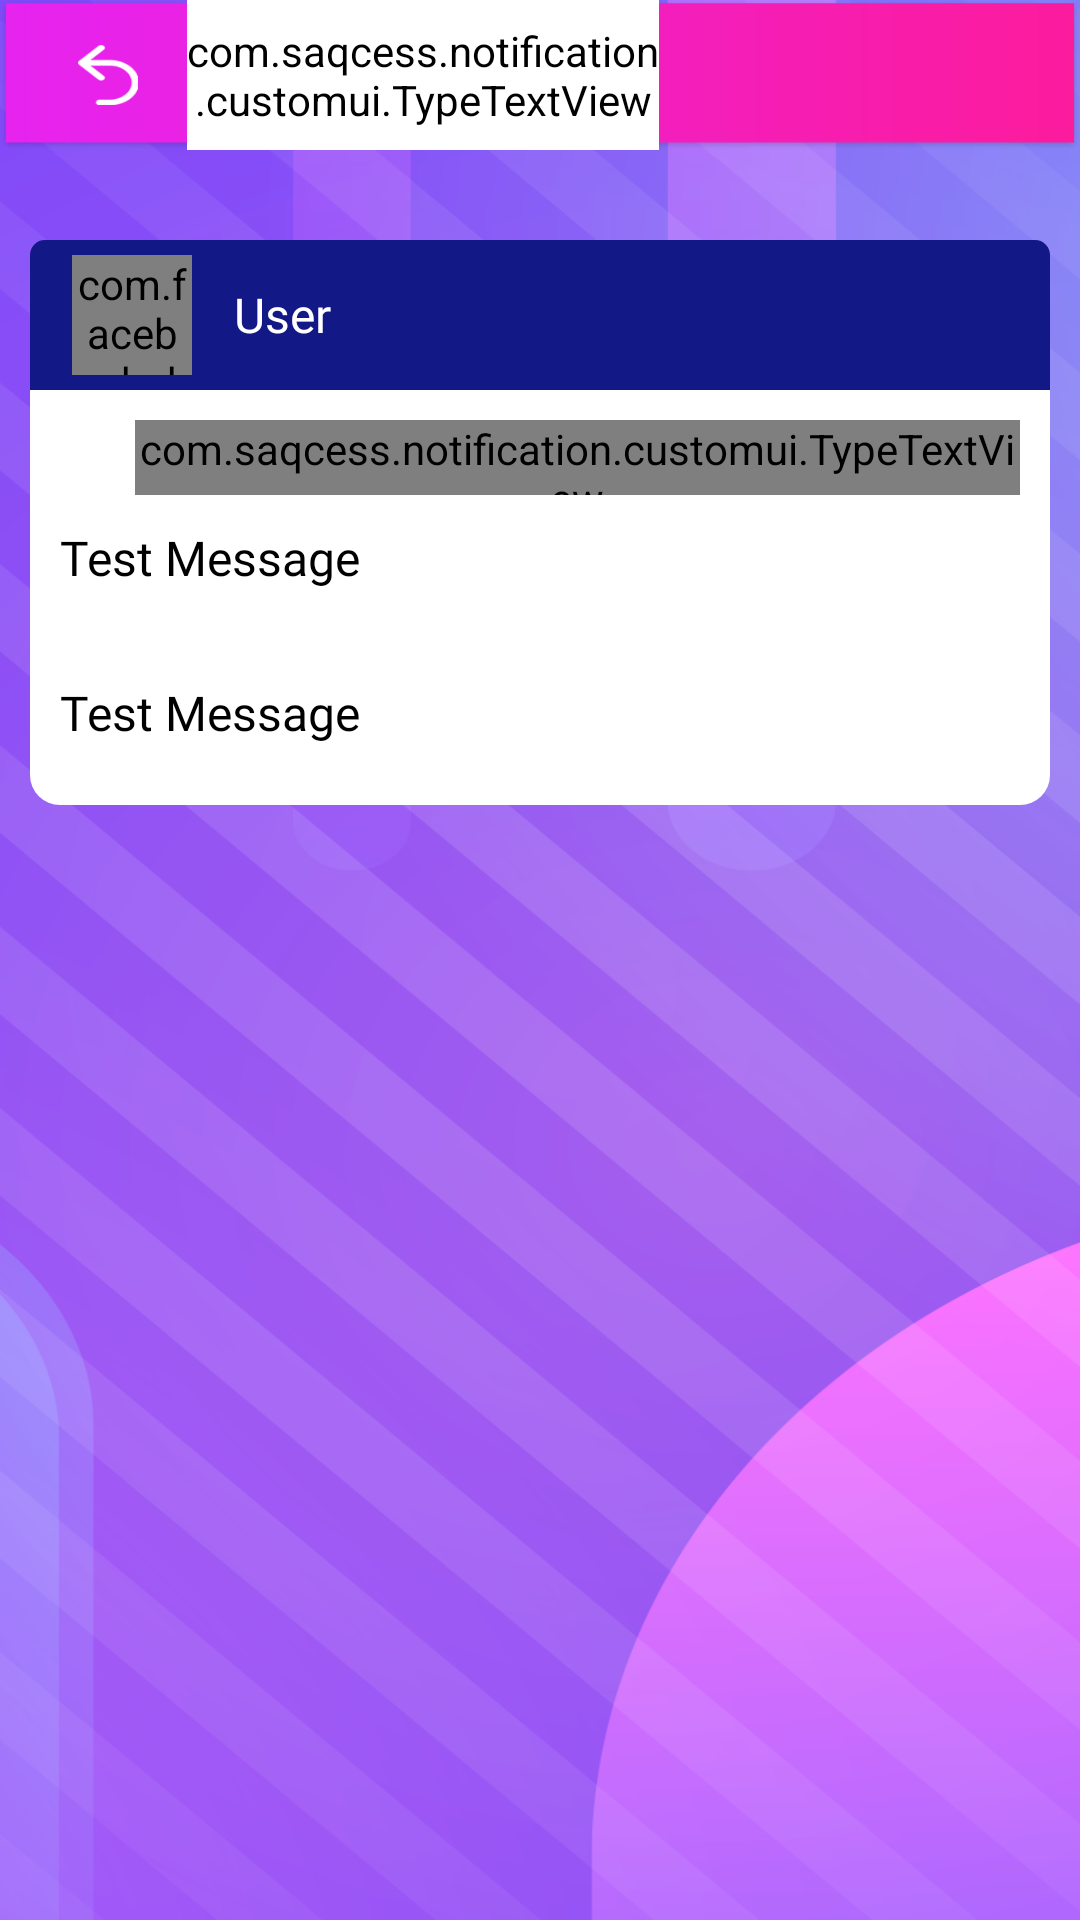

Point at icon controls on the screen. Image size 1080w x 1920h, points as point (x, y).
back: point (108, 75)
